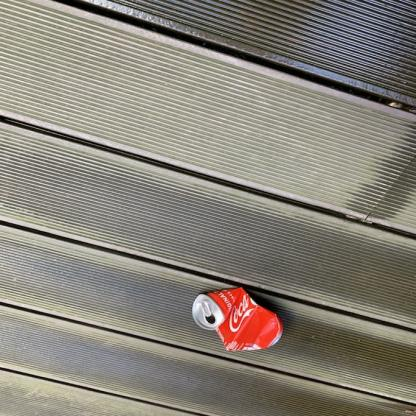trash: (192, 285, 287, 354)
